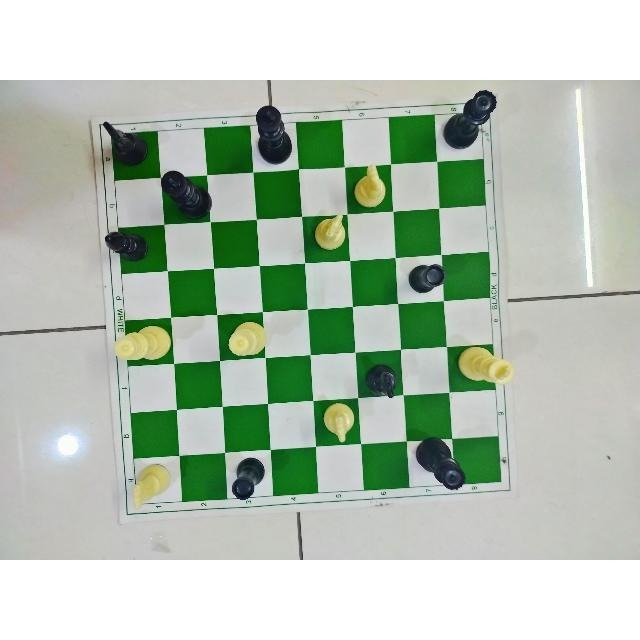black-bishop: (102, 222, 156, 265)
black-king: (155, 169, 219, 224), (249, 98, 296, 169)
black-knight: (99, 114, 153, 167), (360, 360, 402, 404)
black-queen: (437, 86, 501, 151), (408, 435, 470, 497)
black-rook: (226, 457, 269, 509), (403, 260, 449, 299)
white-king: (452, 345, 514, 395)
white-knight: (129, 459, 173, 514), (313, 400, 358, 444), (352, 161, 390, 212), (310, 213, 349, 255)
white-queen: (111, 318, 172, 367), (223, 320, 268, 361)
